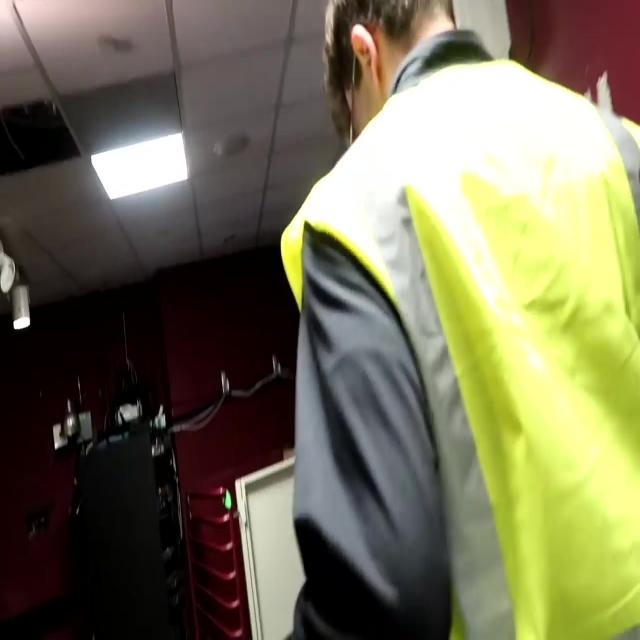Reflective-Jacket: (266, 68, 638, 622)
